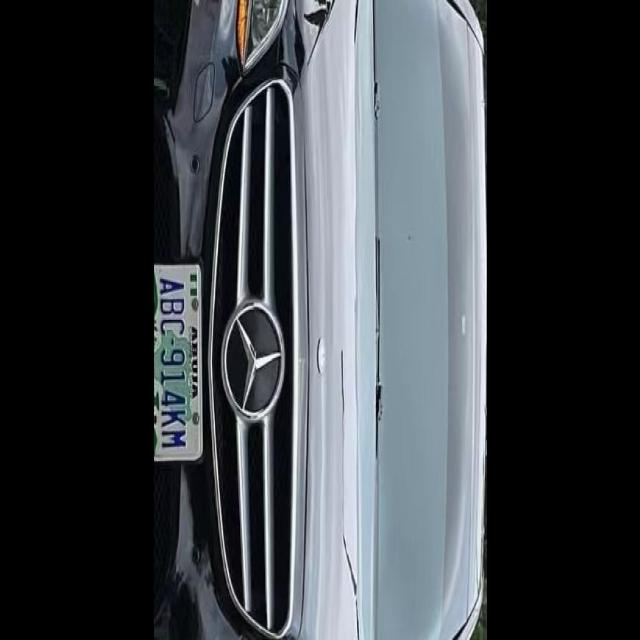Nigerian License Plate - vdataset benjamin-daria: (153, 260, 202, 466)
